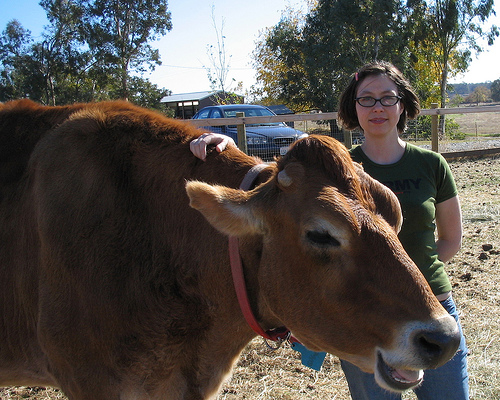without_mask: (348, 78, 409, 137)
